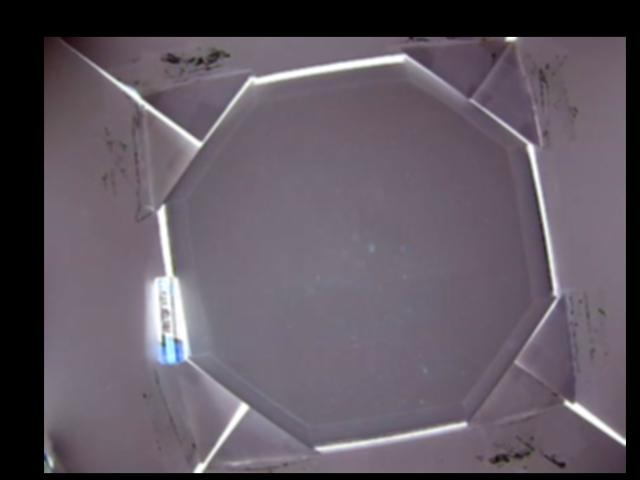Battery: (152, 276, 185, 365)
